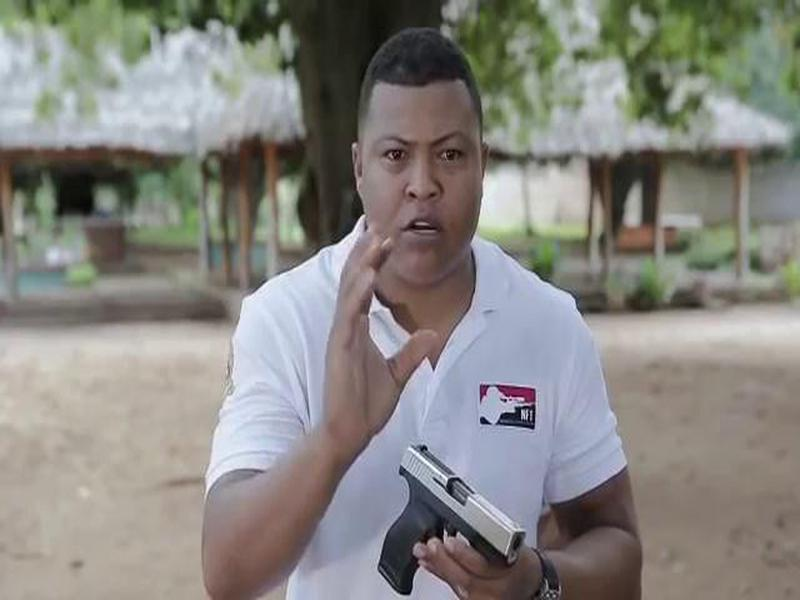Pistola: (374, 440, 509, 600)
